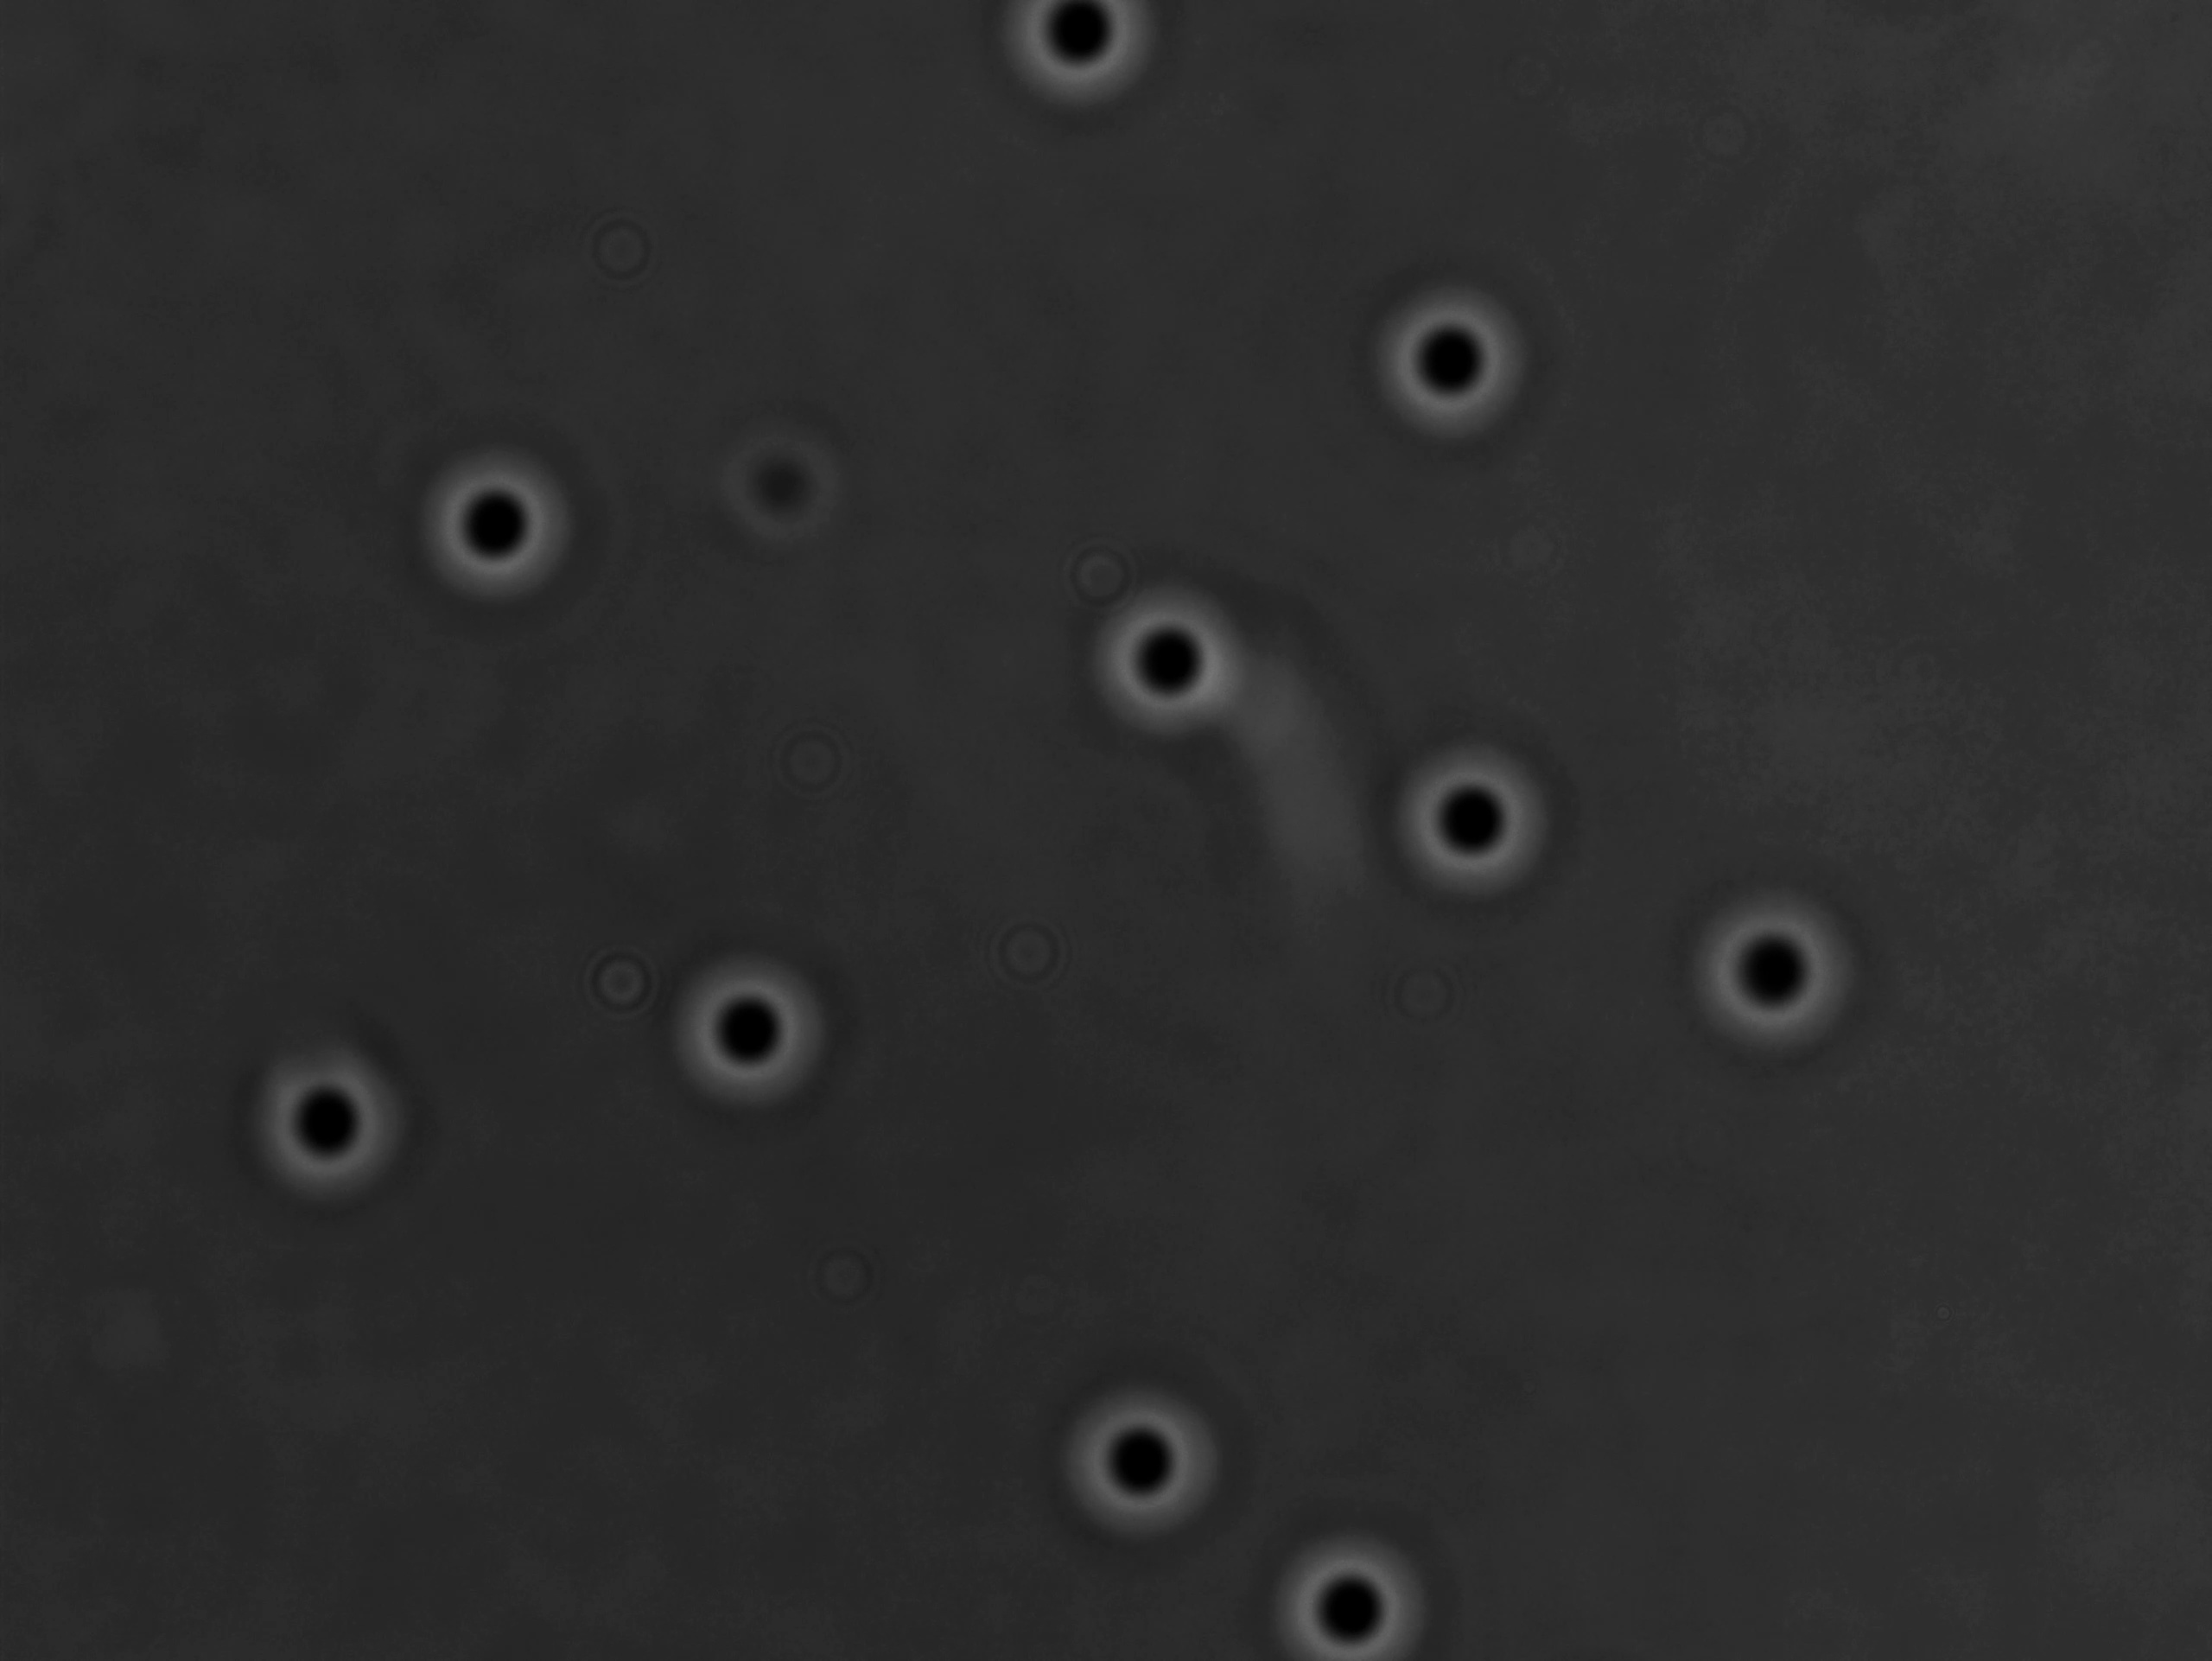depth:-80: (1075, 557, 1260, 748), (1041, 1371, 1230, 1558), (1690, 878, 1882, 1059), (1380, 733, 1556, 914), (244, 1043, 424, 1218), (1359, 269, 1530, 445), (659, 947, 841, 1113), (1244, 1521, 1439, 1661), (408, 445, 577, 605)
